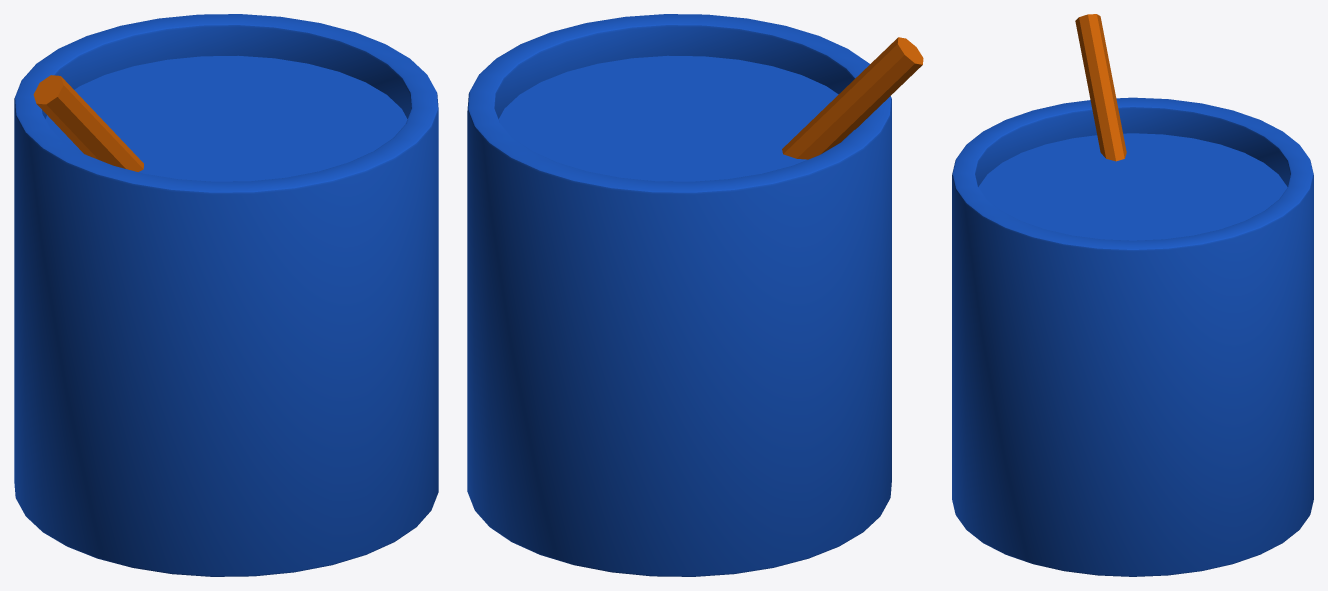
Rendered from cup.obj.
3 renders of one model, left to right at view 1: azimuth 30°, elevation 25°; view 2: azimuth 150°, elevation 25°; view 3: azimuth 270°, elevation 25°, orthographic. The views are drawn at different scales.
Visible parts, largest first — view 1: cup_Cylinder.001, pencil_Cylinder.002; view 2: cup_Cylinder.001, pencil_Cylinder.002; view 3: cup_Cylinder.001, pencil_Cylinder.002.
Boxes of the visible parts, x1,y1,x2,y2 form: cup_Cylinder.001: (14, 14, 438, 576); pencil_Cylinder.002: (33, 75, 143, 171); cup_Cylinder.001: (467, 14, 891, 576); pencil_Cylinder.002: (782, 37, 923, 159); cup_Cylinder.001: (952, 97, 1313, 576); pencil_Cylinder.002: (1075, 14, 1126, 161).
Size of the model in its own units: 2.18 by 2.48 by 2.
